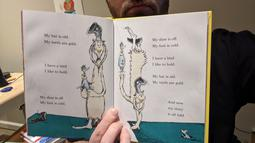text block: (35, 29, 80, 49), (147, 71, 187, 87), (163, 96, 192, 118), (149, 33, 181, 49), (39, 59, 72, 74), (36, 92, 69, 107), (146, 53, 177, 68)
